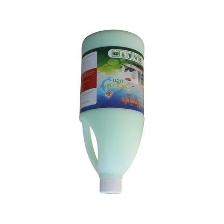cleaning_solution: (78, 28, 146, 196)
